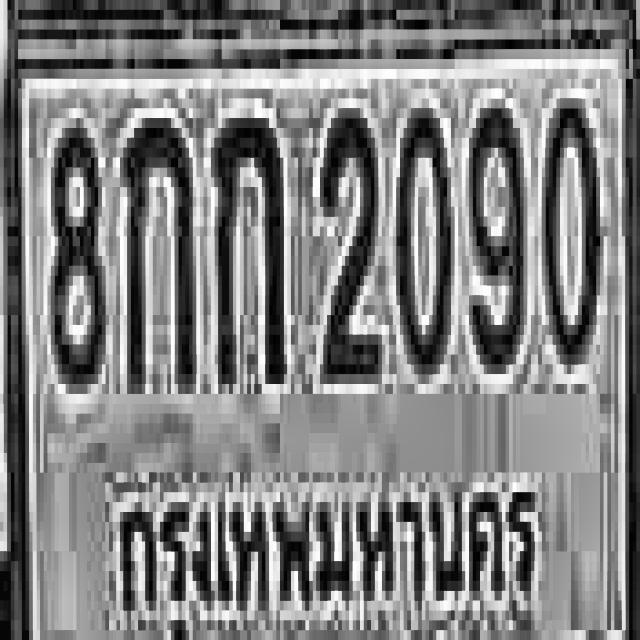license-plate: (1, 20, 640, 639)
